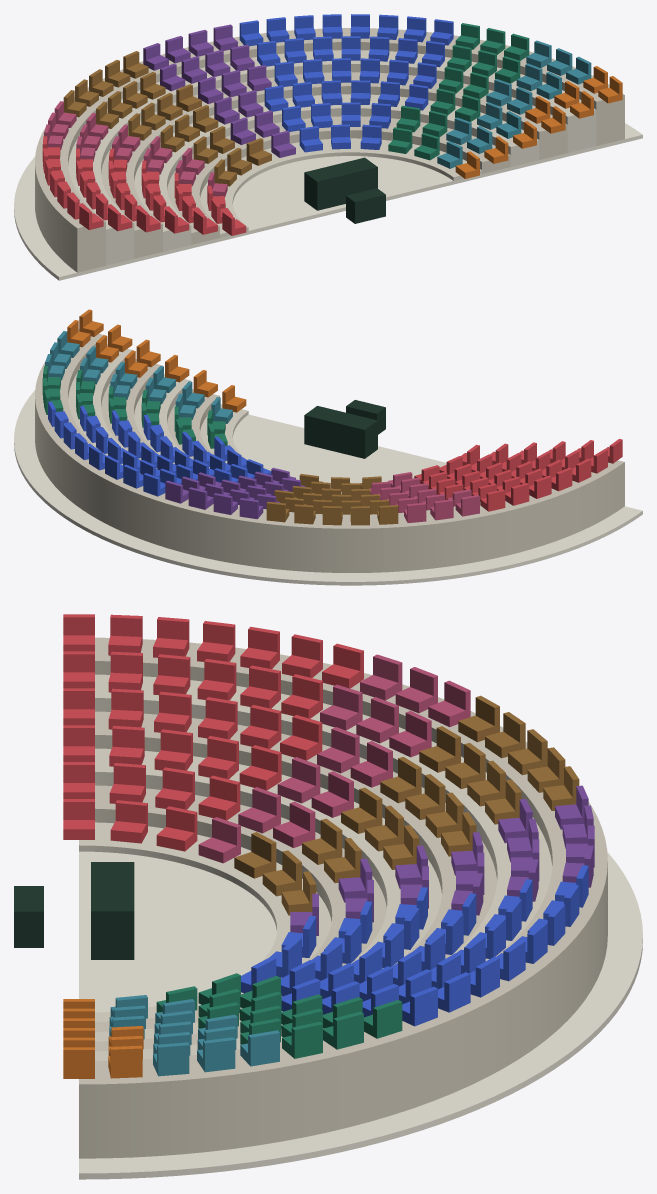
Rendered from parlament.glb.
The picture shows the model from 3 angles, top to bottom: view 1: azimuth 30°, elevation 25°; view 2: azimuth 150°, elevation 25°; view 3: azimuth 270°, elevation 25°; orthographic projection. The views are drawn at different scales.
Visible parts, largest first — view 1: podlaha, rad 6, rad 5, rad 4, rad 3, rečnícky pult, rad 2, rad 1, kreslo 117, kreslo 76, kreslo 86, kreslo 127 (+108 smaller); view 2: rad 6, podlaha, rečnícky pult, rad 5, rad 4, rad 3, rad 2, rad 1, kreslo 146, kreslo 29, kreslo 78, kreslo 148 (+17 smaller); view 3: rad 6, podlaha, rad 5, rad 4, rečnícky pult, rad 3, rad 1, rad 2, kreslo 24, kreslo 27, kreslo 31, kreslo 30 (+78 smaller).
Part boxes in pixels (bbox=[...]): podlaha: bbox=[14, 123, 642, 280]; rad 6: bbox=[35, 28, 624, 272]; rad 5: bbox=[68, 50, 596, 265]; rad 4: bbox=[101, 72, 567, 258]; rad 3: bbox=[134, 94, 539, 251]; rečnícky pult: bbox=[304, 157, 385, 223]; rad 2: bbox=[167, 116, 510, 244]; rad 1: bbox=[200, 138, 481, 237]; kreslo 117: bbox=[388, 127, 412, 153]; kreslo 76: bbox=[221, 70, 246, 97]; kreslo 86: bbox=[299, 126, 322, 152]; kreslo 127: bbox=[414, 133, 439, 160]; rad 6: bbox=[35, 329, 624, 572]; podlaha: bbox=[14, 390, 642, 585]; rečnícky pult: bbox=[304, 400, 385, 458]; rad 5: bbox=[68, 344, 140, 473]; rad 4: bbox=[101, 359, 162, 468]; rad 3: bbox=[134, 374, 191, 464]; rad 2: bbox=[167, 389, 341, 494]; rad 1: bbox=[200, 404, 330, 487]; kreslo 146: bbox=[193, 370, 217, 397]; kreslo 29: bbox=[480, 489, 505, 511]; kreslo 78: bbox=[188, 487, 213, 509]; kreslo 148: bbox=[136, 339, 160, 367]; rad 6: bbox=[79, 637, 607, 1158]; podlaha: bbox=[79, 851, 642, 1179]; rad 5: bbox=[95, 674, 552, 1060]; rad 4: bbox=[95, 711, 497, 1051]; rečnícky pult: bbox=[14, 862, 134, 959]; rad 3: bbox=[95, 748, 441, 1041]; rad 1: bbox=[79, 822, 331, 1022]; rad 2: bbox=[95, 785, 386, 1031]; kreslo 24: bbox=[156, 806, 197, 851]; kreslo 27: bbox=[198, 775, 240, 820]; kreslo 31: bbox=[280, 715, 322, 760]; kreslo 30: bbox=[239, 745, 281, 790].
Bounding box in the file's own units: 0.675 × 0.072 × 0.3765.
